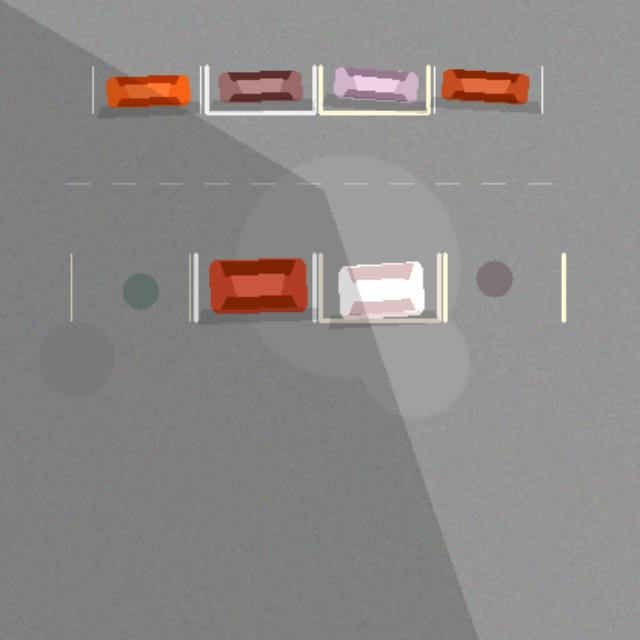space-empty: (71, 254, 189, 320), (445, 254, 563, 320)
space-occupied: (195, 254, 314, 320), (320, 254, 438, 320), (92, 66, 200, 112), (206, 66, 314, 112), (320, 66, 428, 112), (434, 66, 542, 112)
